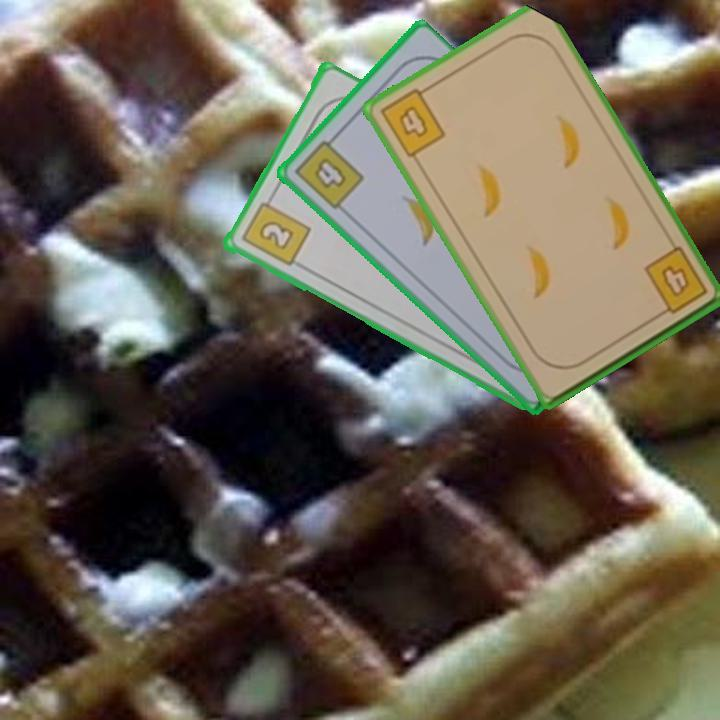2b: (237, 191, 313, 270)
4b: (290, 131, 367, 213), (376, 82, 448, 161), (640, 243, 710, 321)
